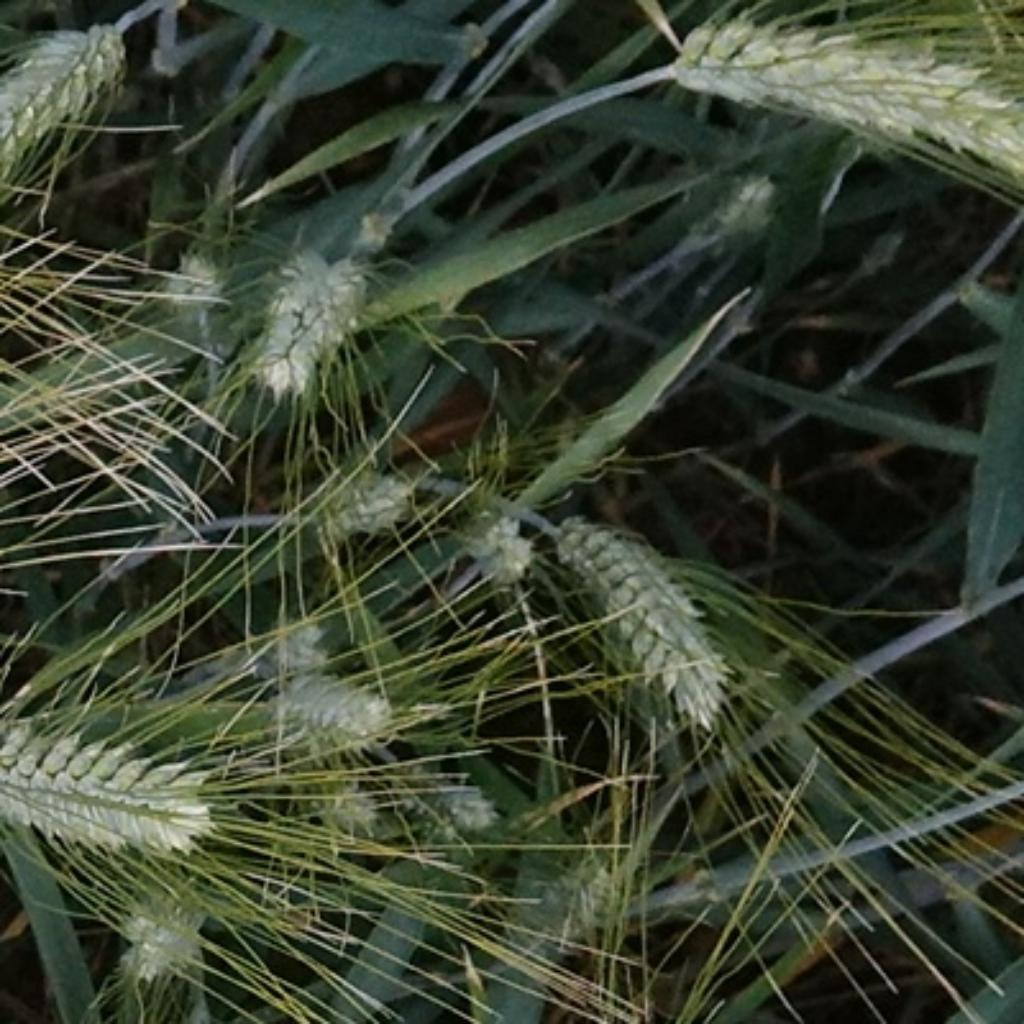0-0: (655, 2, 1022, 178), (540, 496, 732, 727), (0, 7, 140, 204), (3, 735, 214, 859), (240, 227, 381, 399), (528, 840, 633, 956), (103, 880, 211, 990), (319, 451, 429, 558), (376, 750, 509, 837), (439, 496, 544, 606), (261, 660, 396, 744), (248, 595, 348, 699), (304, 775, 381, 852), (719, 159, 789, 240), (153, 248, 235, 312)
